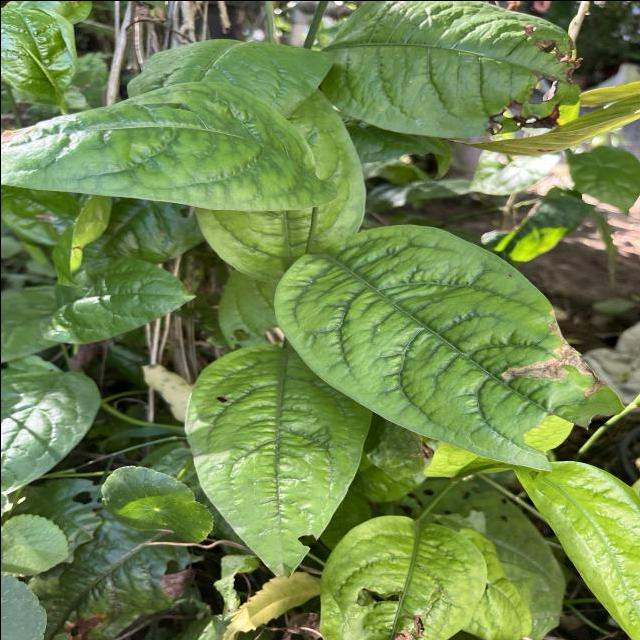Plumbago indica: (267, 218, 608, 473), (178, 337, 368, 581), (0, 78, 329, 216), (313, 0, 589, 145)
